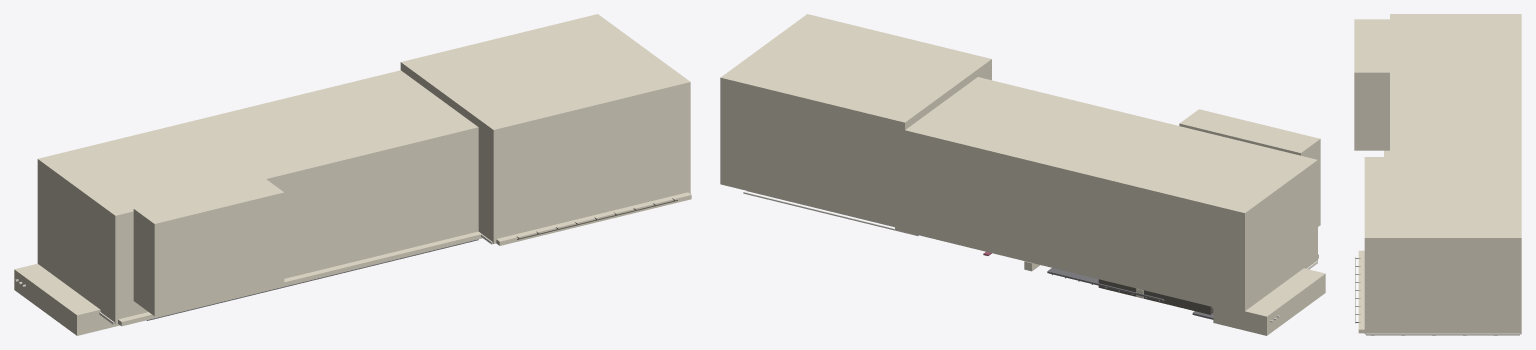
Rendered from wehner-building.glb.
3 views of the same model, side by side, from view 1: azimuth 30°, elevation 25°; view 2: azimuth 150°, elevation 25°; view 3: azimuth 270°, elevation 25° (orthographic). The views are drawn at different scales.
Visible parts, largest first — view 1: main_block, east_wing, upper_setback, left_entry_pier, main_parapet, east_parapet, main_window_top; view 2: main_block, east_wing, left_entry_pier, upper_setback, entrance_recess, entrance_glass_wall, lower_stripe_r_1.35; view 3: east_wing, main_block, upper_setback, east_parapet, east_corner_trim_72.
Part boxes in pixels (x1,y1,x2,y2): main_block: (37, 70, 478, 324); east_wing: (400, 14, 690, 243); upper_setback: (133, 177, 284, 316); left_entry_pier: (14, 263, 119, 335); main_parapet: (118, 231, 482, 326); east_parapet: (496, 192, 691, 245); main_window_top: (146, 239, 478, 320); main_block: (895, 77, 1317, 314); east_wing: (720, 14, 991, 227); left_entry_pier: (1213, 268, 1325, 335); upper_setback: (1179, 109, 1320, 226); entrance_recess: (1098, 279, 1213, 314); entrance_glass_wall: (1047, 268, 1164, 301); lower_stripe_r_1.35: (743, 192, 918, 235); east_wing: (1364, 157, 1521, 334); main_block: (1390, 14, 1521, 156); upper_setback: (1354, 19, 1389, 150); east_parapet: (1358, 250, 1364, 333); east_corner_trim_72: (1366, 333, 1519, 335).
Size of the model in its own units: 113 by 26.07 by 33.
